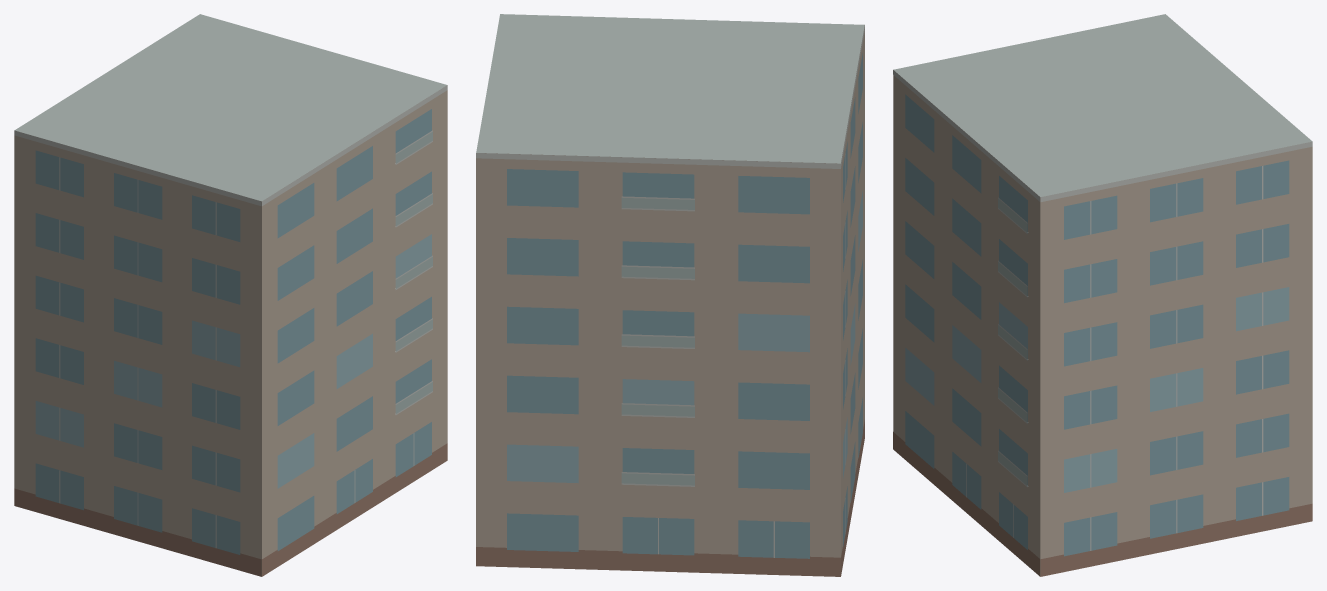
File: survey-upis-33017436.glb
3 views of the same model, side by side, from view 1: azimuth 30°, elevation 25°; view 2: azimuth 150°, elevation 25°; view 3: azimuth 270°, elevation 25° (orthographic). The views are drawn at different scales.
Parts seen in each view (by area): view 1: survey-upis-33017436.tmp; view 2: survey-upis-33017436.tmp; view 3: survey-upis-33017436.tmp.
Boxes of the visible parts, x1,y1,x2,y2 form: survey-upis-33017436.tmp: [14, 14, 447, 576]; survey-upis-33017436.tmp: [476, 14, 864, 576]; survey-upis-33017436.tmp: [893, 14, 1312, 576].
Bounding box in the file's own units: 18.95 × 18.3 × 18.34.
